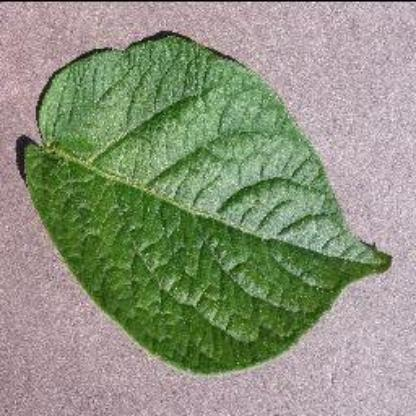Healthy-plant: (17, 33, 402, 387)
